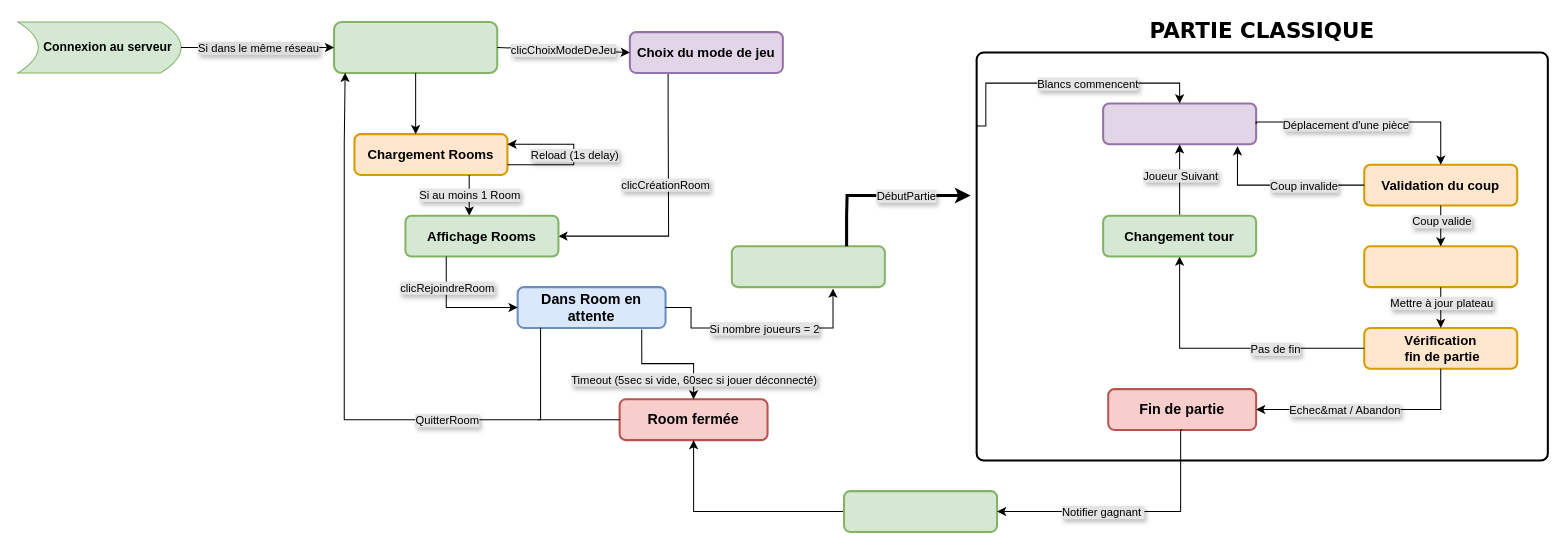
Image size: 1567x550. Some labels were removed from this diagram. Here are the shapes that lost their labels. From the top down, the centre of each, then its label:
At (415,46): "Accueil chess.gg".
At (1179,123): "Tour du joueur".
At (807,266): "Prêt à Jouer".
At (1440,266): "Mise à jour plateau".
At (920,511): "Affichage gagnant".
